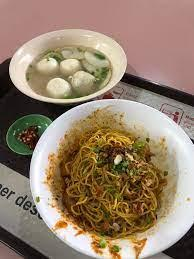Braised Crucian Carp: (28, 98, 191, 257), (8, 28, 127, 106)
